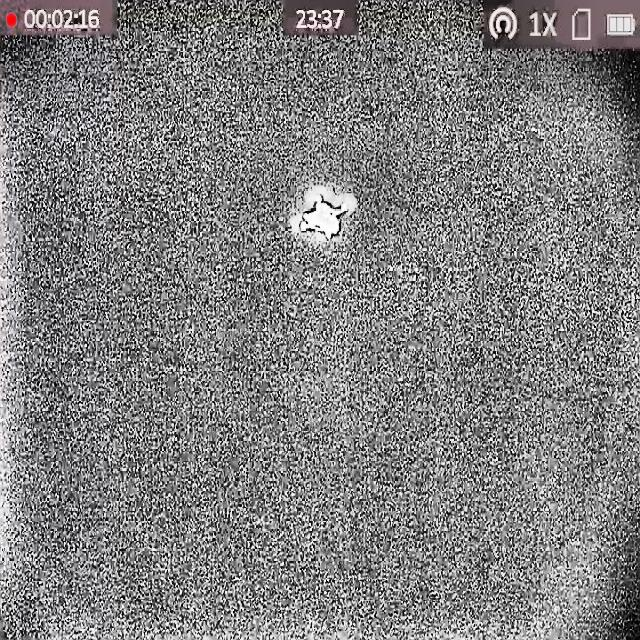drone: (289, 186, 358, 241)
